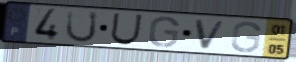4: (31, 7, 62, 43)
G: (146, 15, 181, 49), (229, 20, 263, 54)
U: (64, 8, 100, 44), (108, 12, 145, 46)
V: (193, 18, 229, 51)
